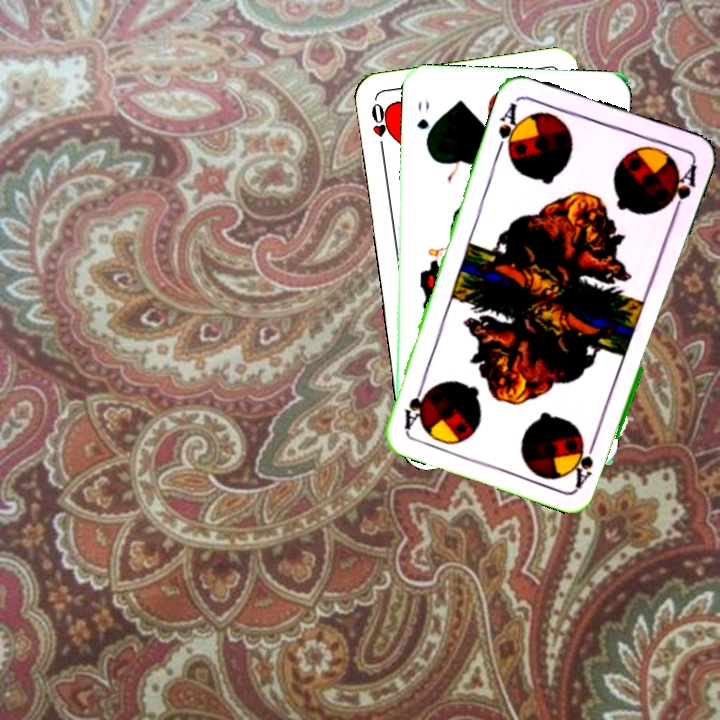GO: (413, 96, 435, 149)
HO: (367, 99, 391, 157)
SA: (493, 98, 524, 158), (571, 432, 600, 490)
